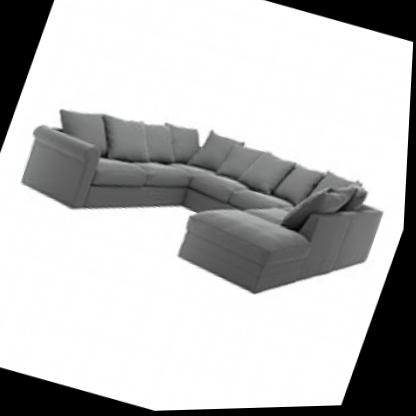Sofa: (0, 46, 409, 337)
